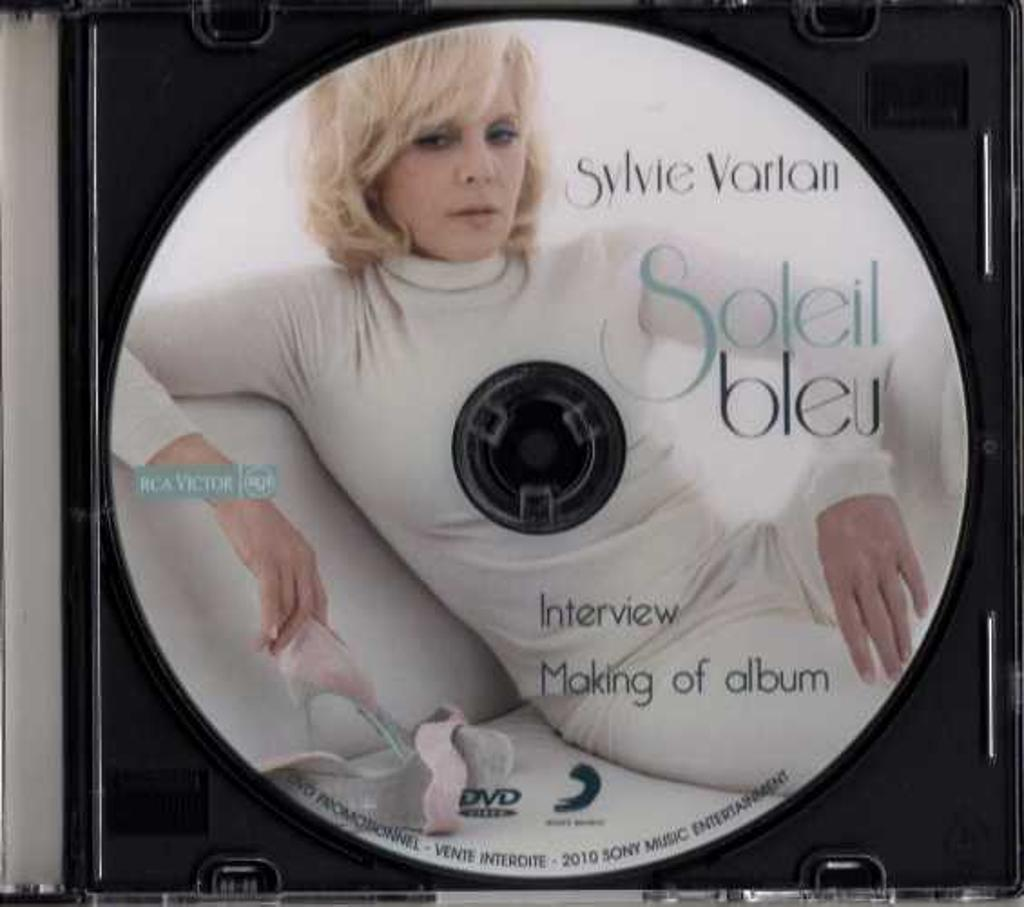face: (376, 50, 522, 258)
